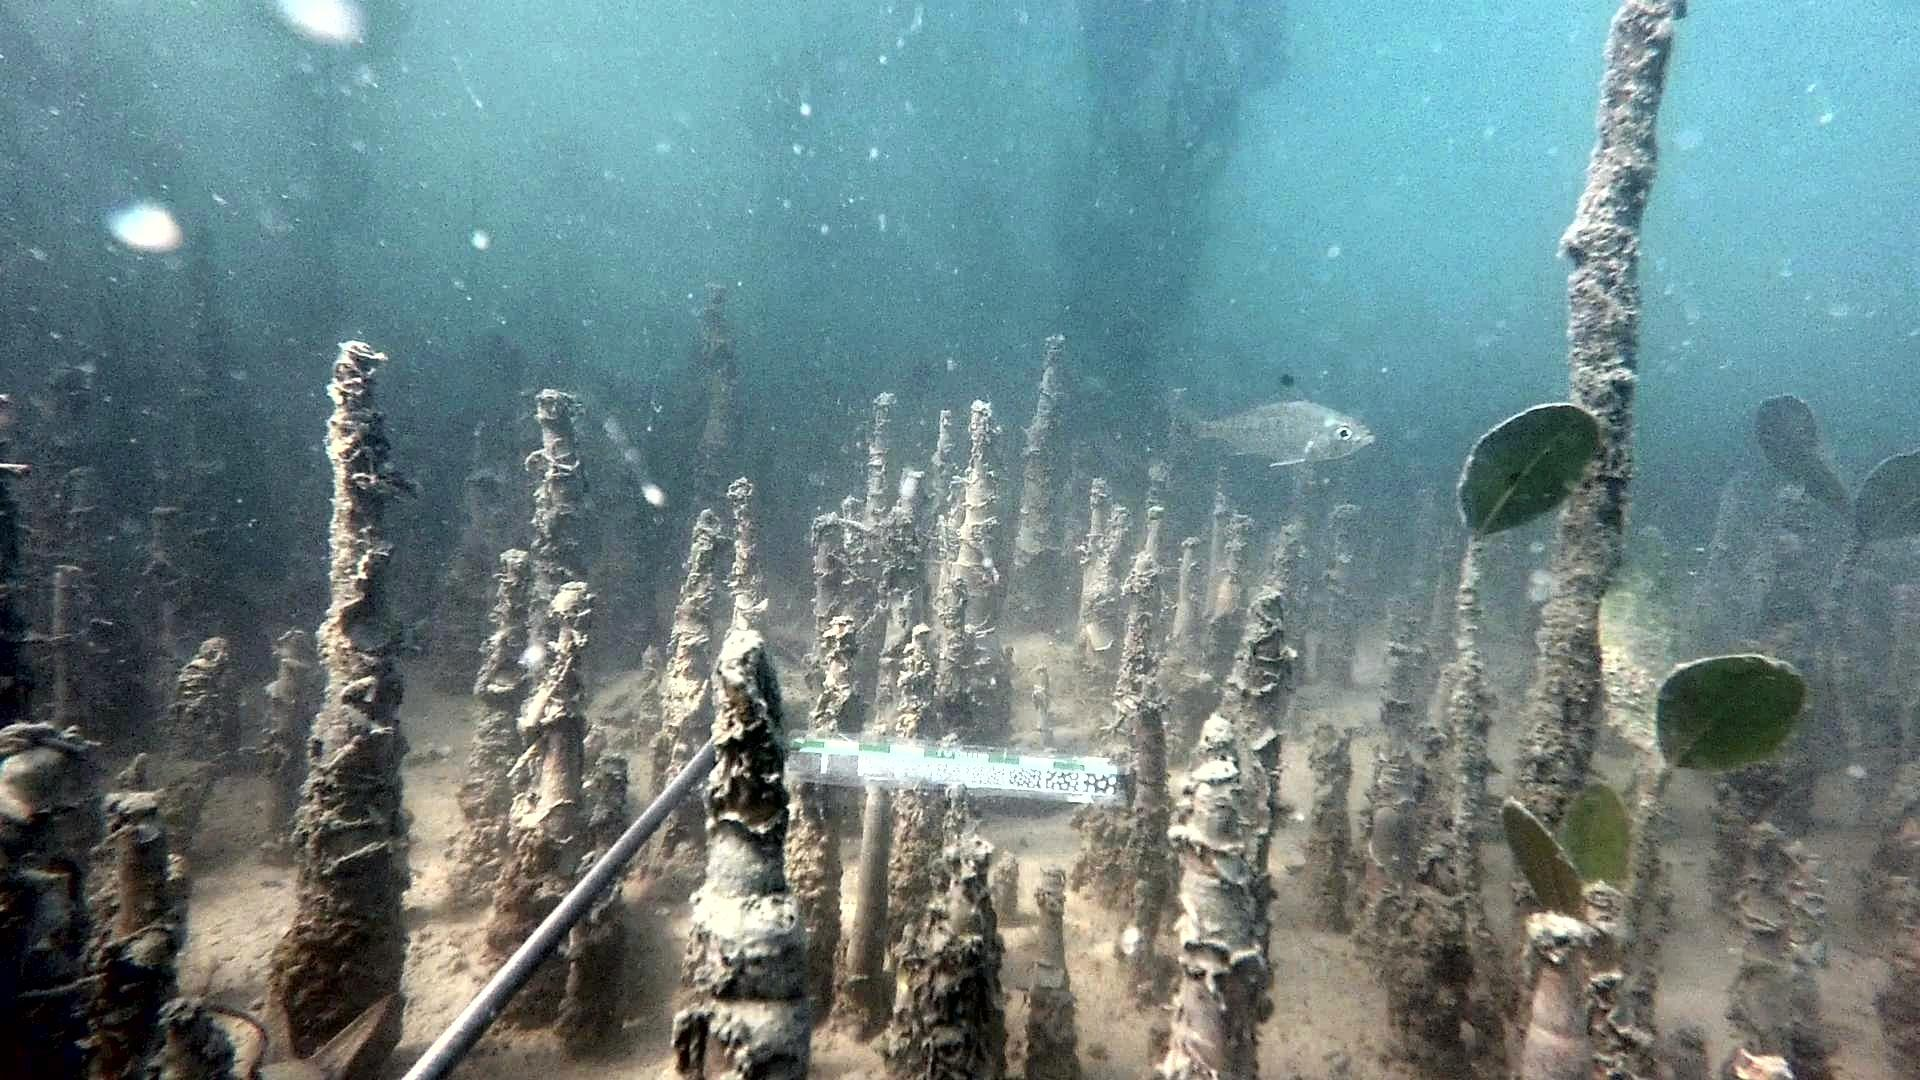gerres: (1165, 371, 1378, 468)
